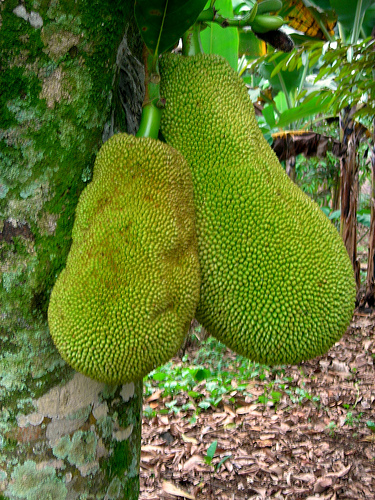jackfruit: (46, 95, 202, 385)
